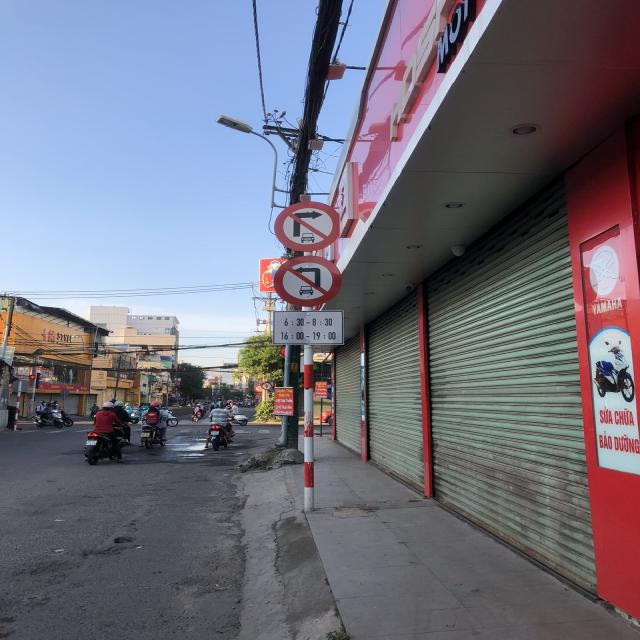Bien bao cam xe o to re phai: (272, 199, 344, 252)
Bien bao cam xe o to re trai: (272, 252, 342, 307)
